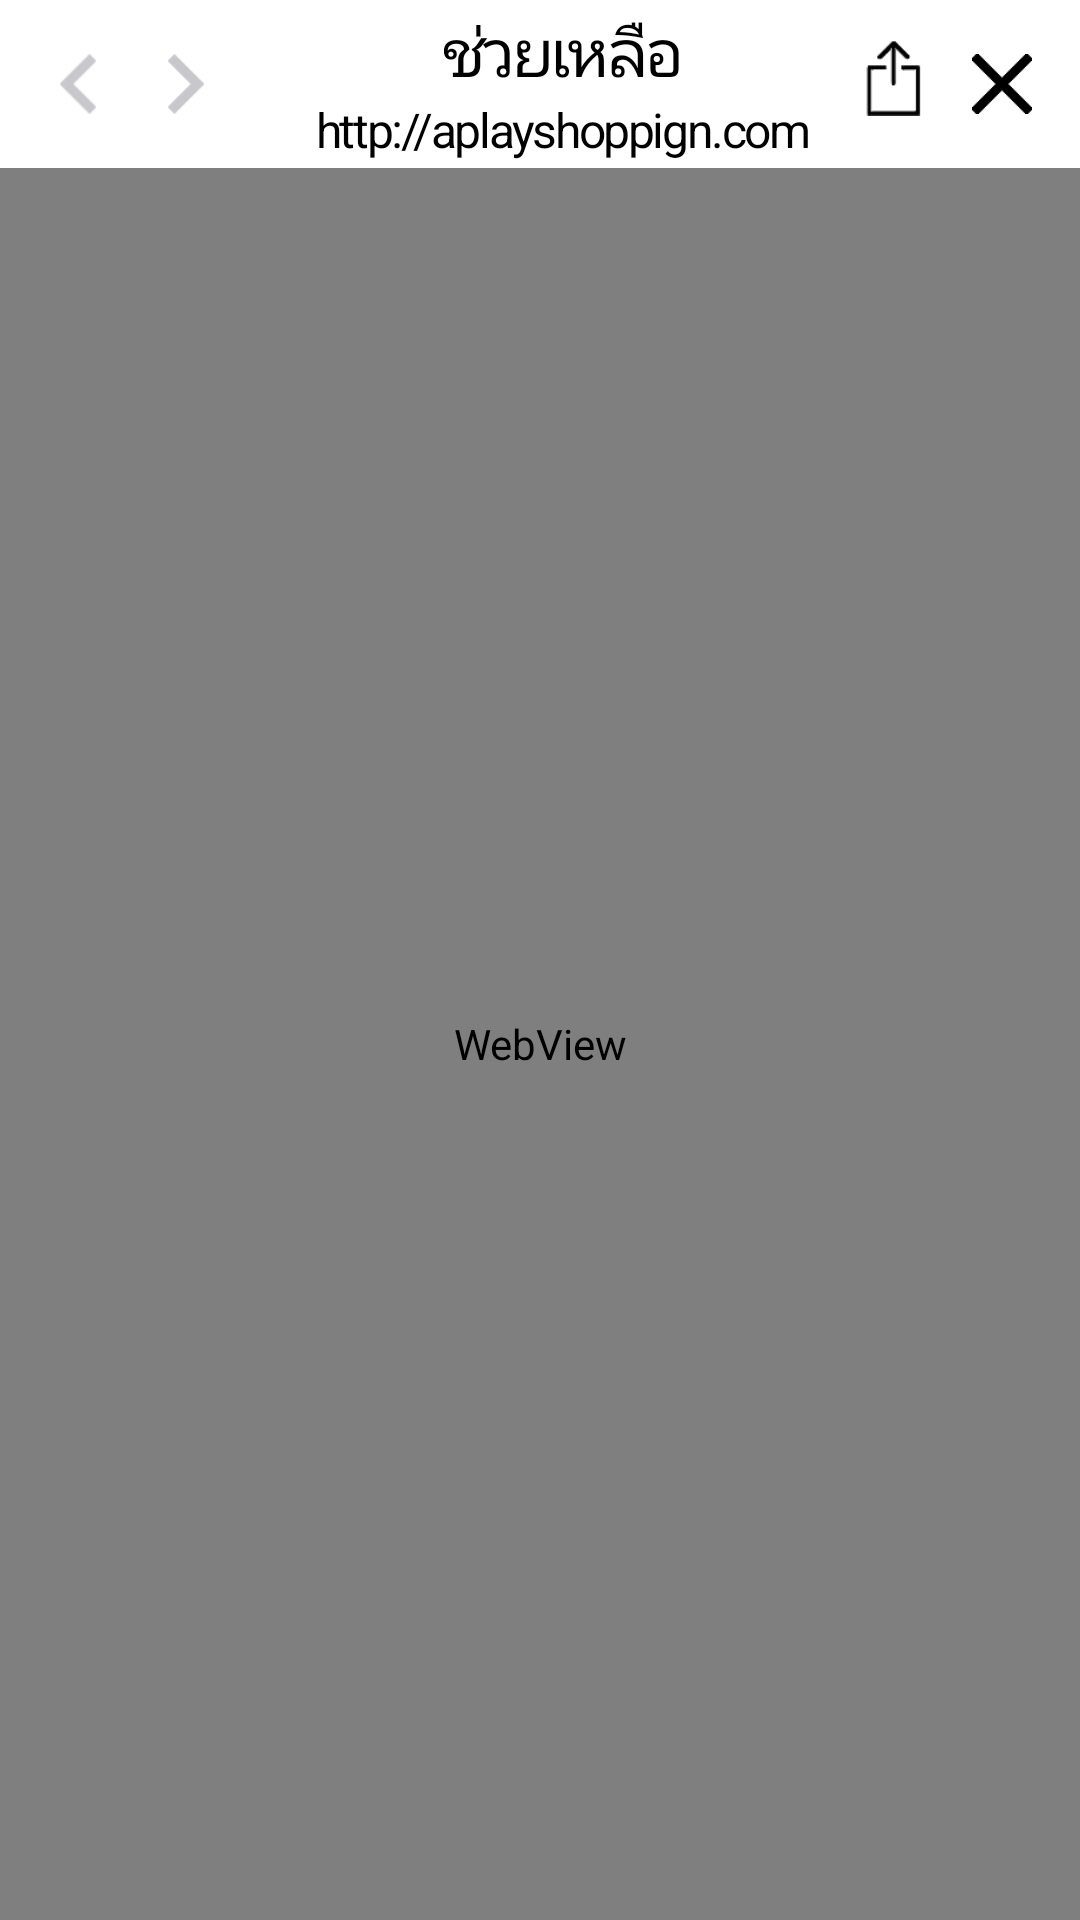

Where to tap for icons on this 1080px×1920px app screen, as [x,y]:
close: [1002,84]
next: [186,84]
previous: [78,84]
share: [893,78]
